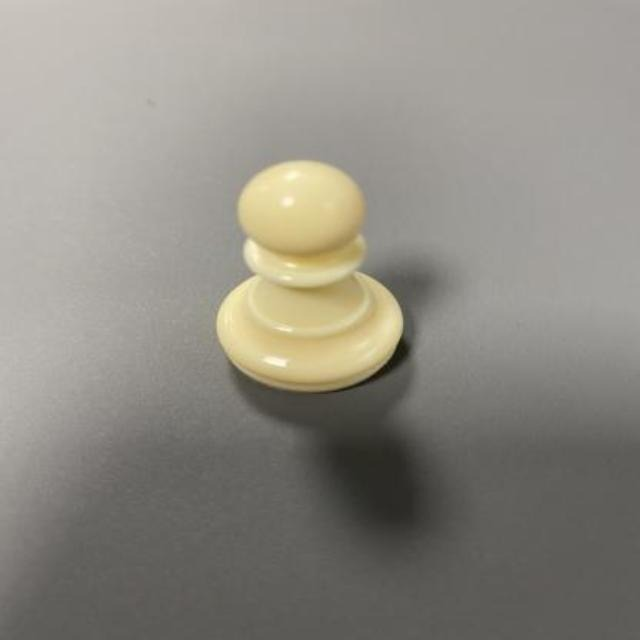white-pawn: (213, 159, 405, 395)
